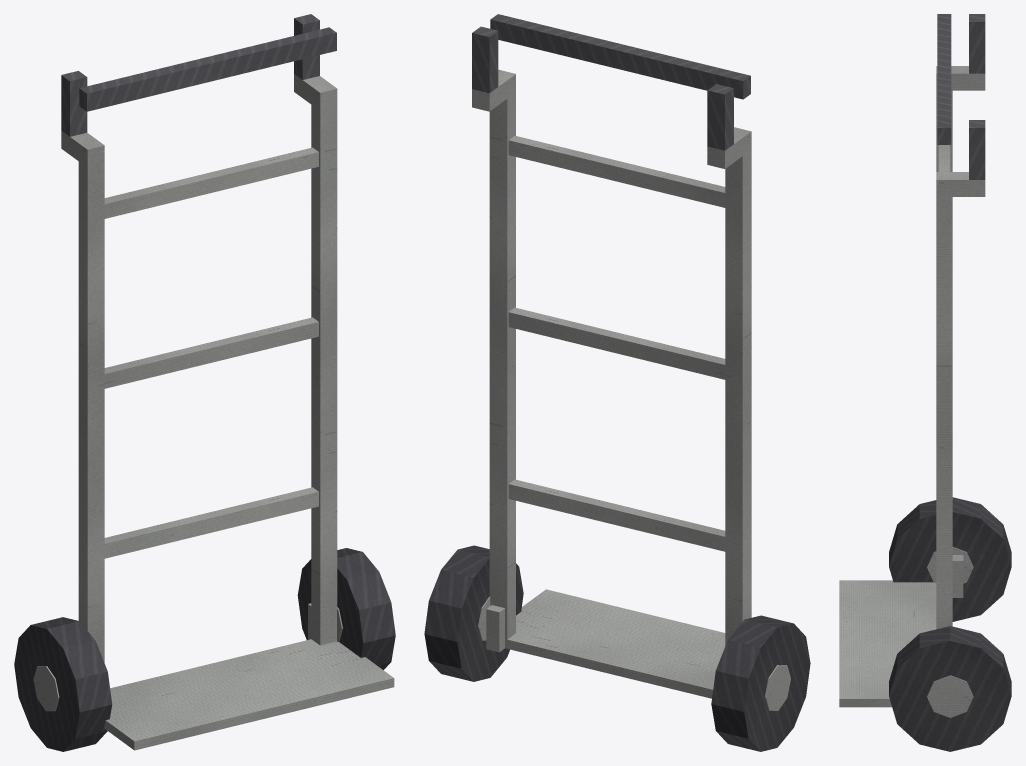
The model's file is handtruck.glb.
The picture shows the model from 3 angles, left to right: view 1: azimuth 30°, elevation 25°; view 2: azimuth 150°, elevation 25°; view 3: azimuth 270°, elevation 25°; orthographic projection. The views are drawn at different scales.
Visible parts, largest first — view 1: NC_handtruck; view 2: NC_handtruck; view 3: NC_handtruck.
Part boxes in pixels (x1=…): NC_handtruck: x1=14, y1=14, x2=395, y2=751; NC_handtruck: x1=424, y1=14, x2=810, y2=751; NC_handtruck: x1=839, y1=14, x2=1011, y2=751.
Bounding box in the file's own units: 0.588 × 1.15 × 0.295.
Materials: 3 (3 with a texture image).
